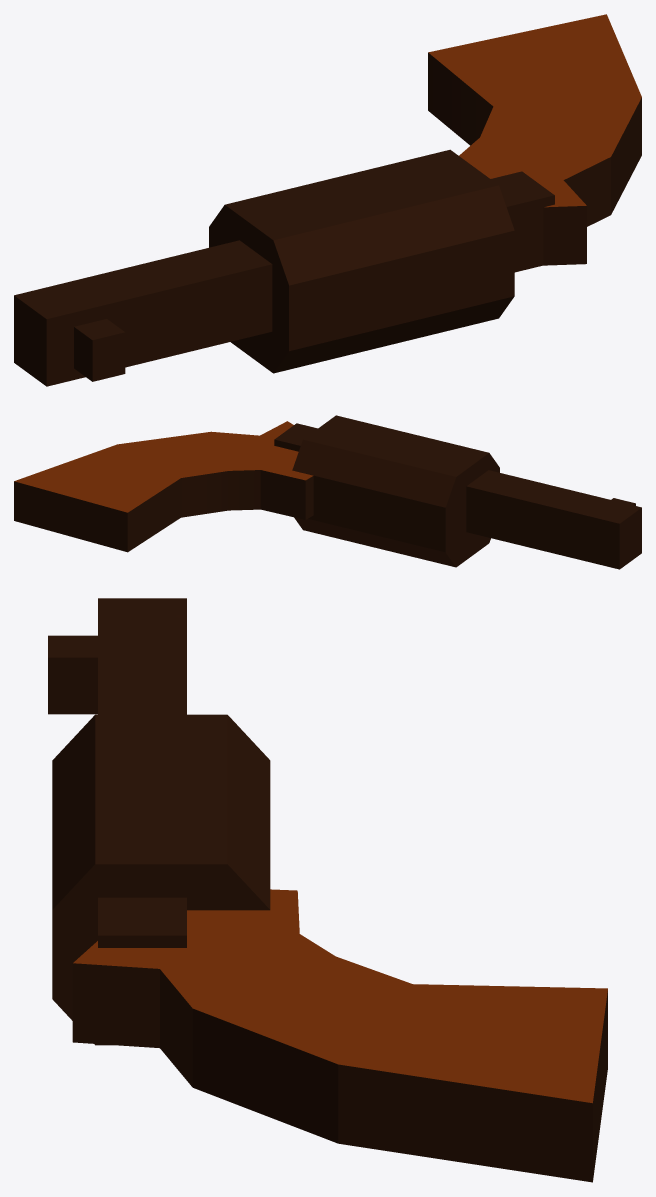
The model's file is Starter_Colt.FBX.
3 views of the same model, one above another, from view 1: azimuth 30°, elevation 25°; view 2: azimuth 150°, elevation 25°; view 3: azimuth 270°, elevation 25° (orthographic). The views are drawn at different scales.
Parts seen in each view (by area): view 1: Starter_Colt; view 2: Starter_Colt; view 3: Starter_Colt.
Part boxes in pixels (left/top/right/bottom): Starter_Colt: left=14, top=14, right=641, bottom=386; Starter_Colt: left=14, top=415, right=641, bottom=569; Starter_Colt: left=48, top=598, right=607, bottom=1182.
Size of the model in its own units: 5.75 by 0.9871 by 2.77.
